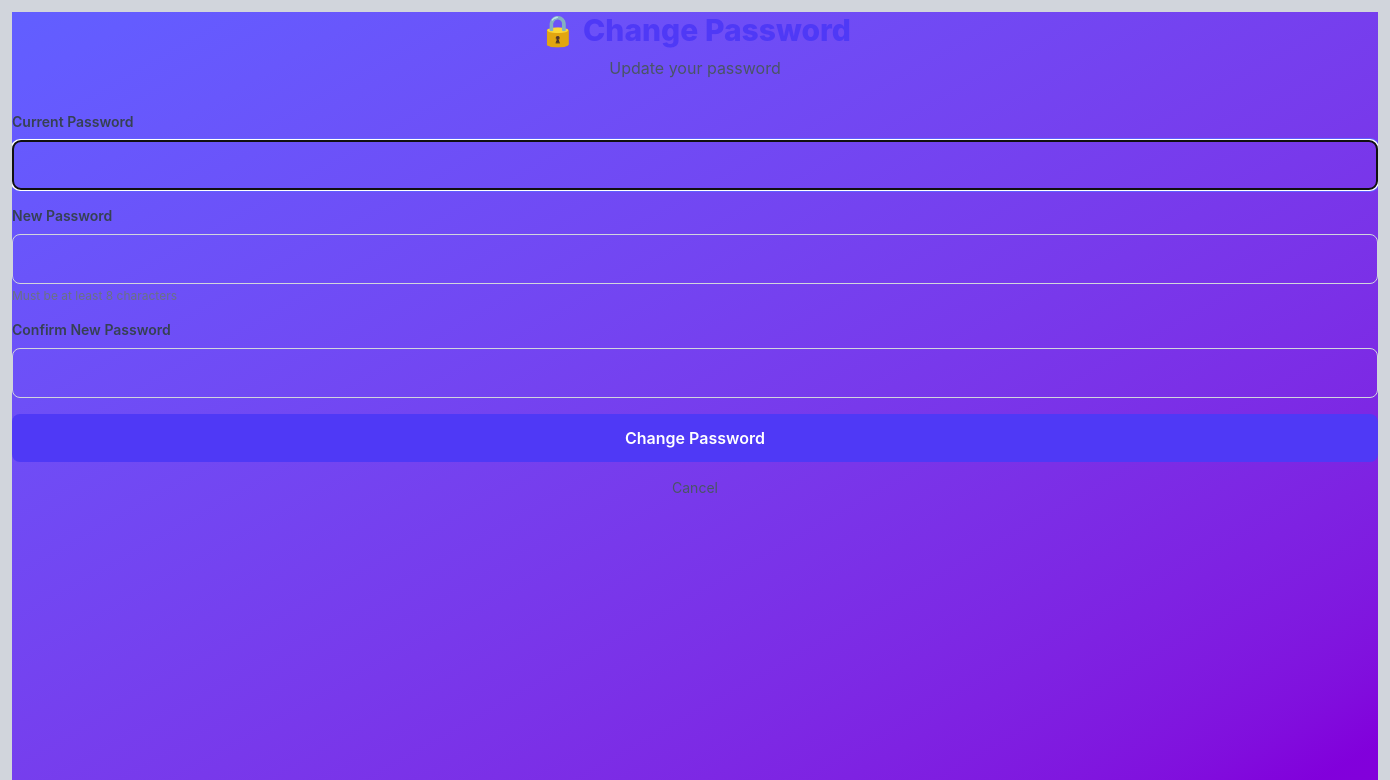
ChangePasswordPage › validates password length
Step 1. Type "oldpass" into the password field labelled "Current Password" → {"x": 695, "y": 165}, box top-left (12, 140), bottom-right (1378, 190)
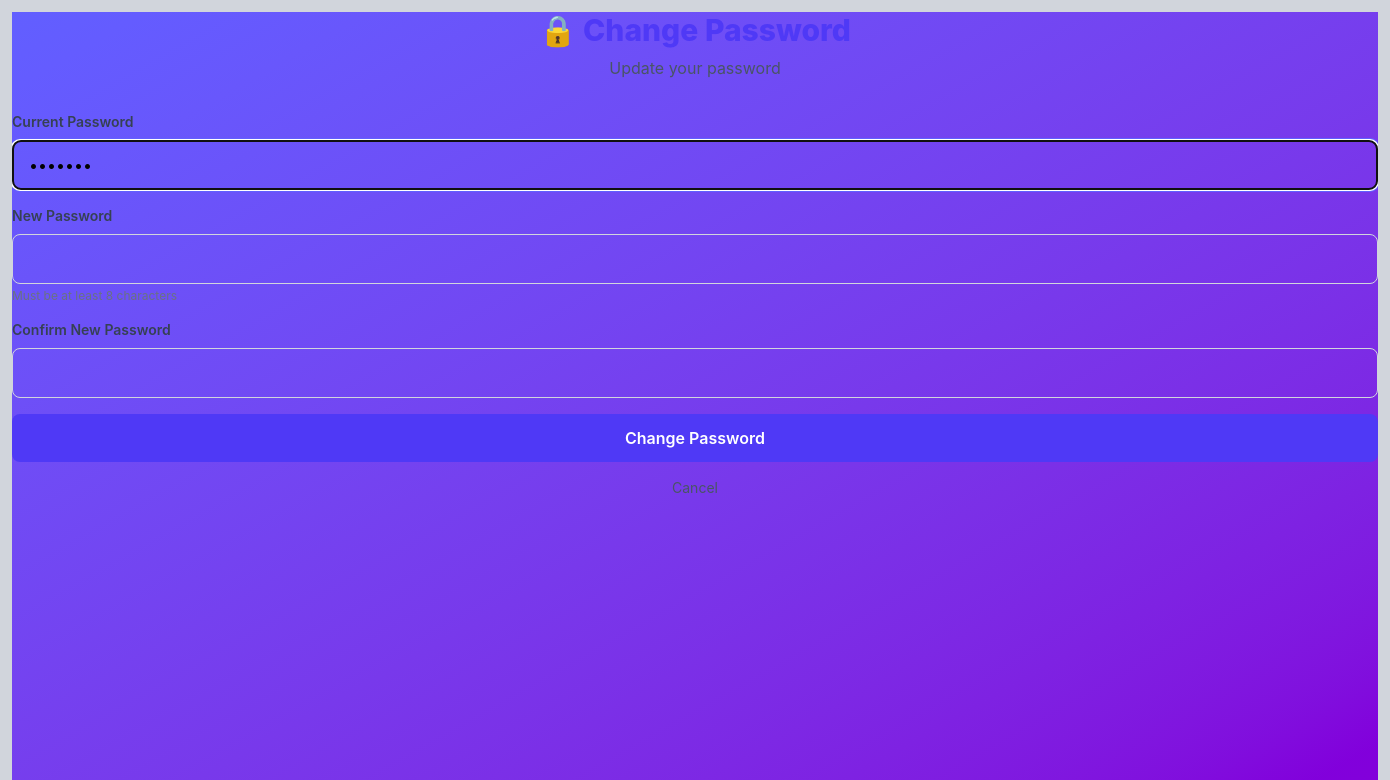
Step 2. Type "short" into the password field labelled "New Password" → {"x": 695, "y": 259}, box top-left (12, 234), bottom-right (1378, 284)
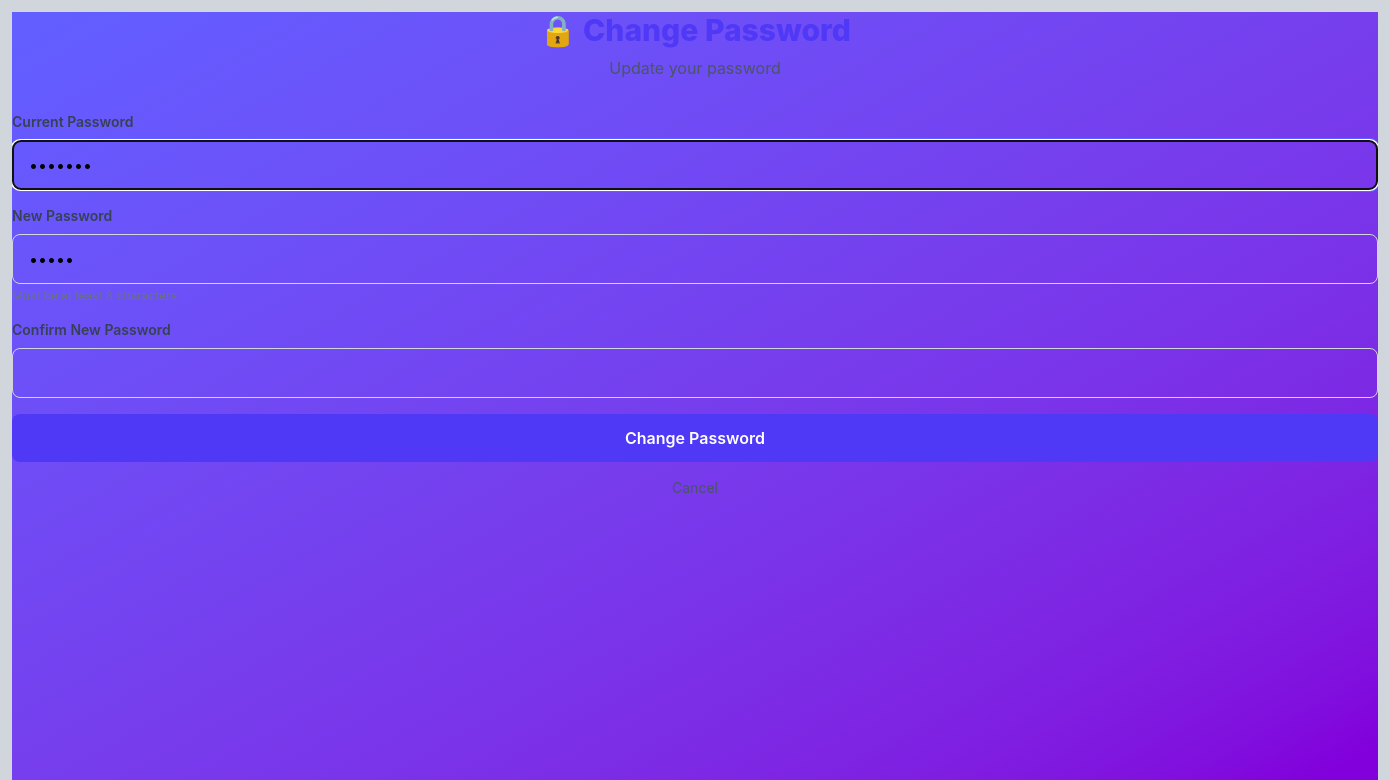
Step 3. Type "short" into the password field labelled "Confirm New Password" → {"x": 695, "y": 373}, box top-left (12, 348), bottom-right (1378, 398)
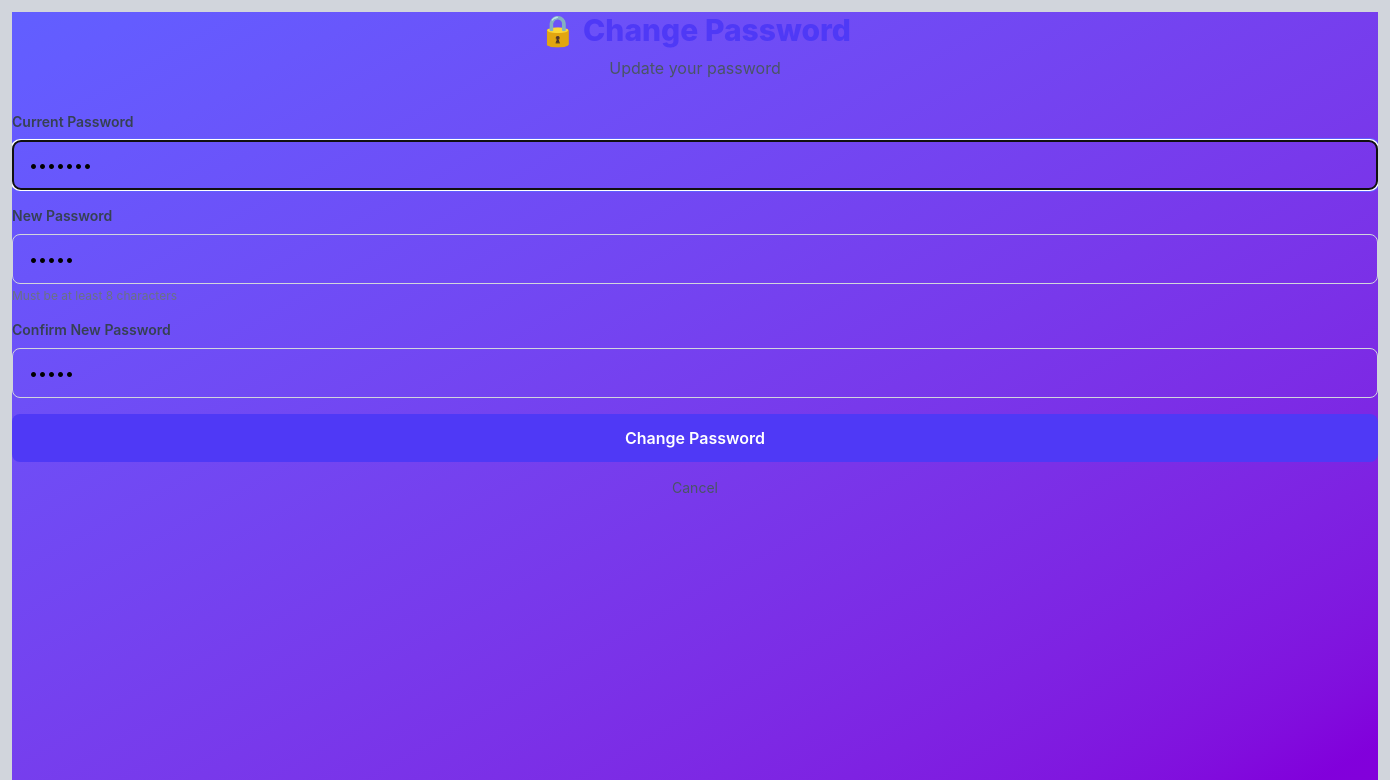
Step 4. Click the button "Change Password" → {"x": 695, "y": 438}, box top-left (12, 414), bottom-right (1378, 462)
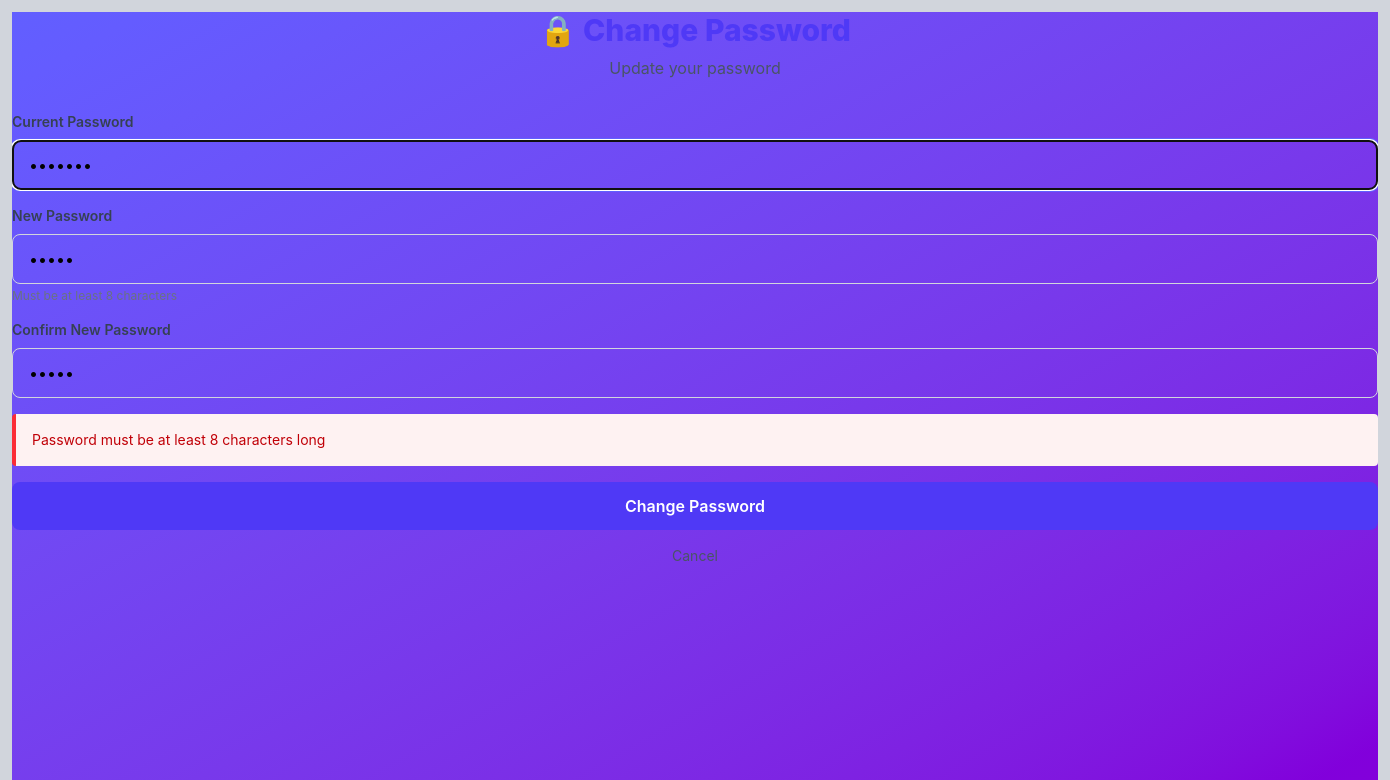
Check: the text "Password must be at least 8 characters long" is shown, box top-left (32, 431), bottom-right (325, 448)
